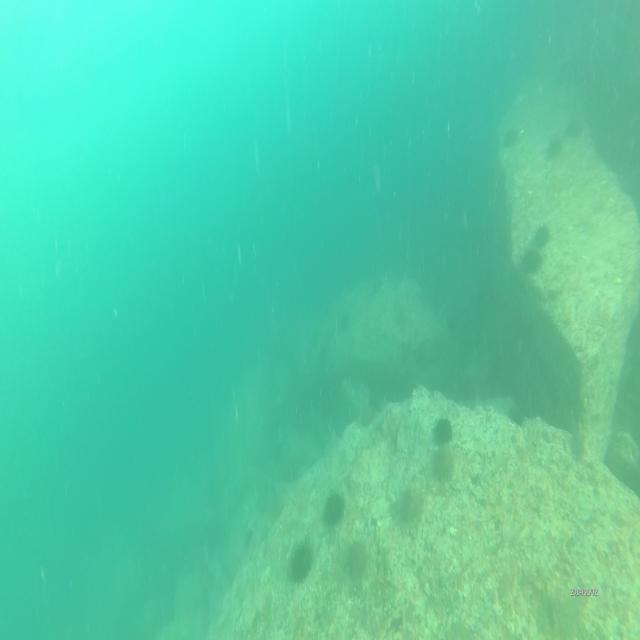echinus: (393, 488, 424, 528), (290, 534, 310, 586), (346, 542, 372, 580), (521, 245, 545, 272), (321, 492, 341, 524), (434, 447, 454, 478), (433, 418, 453, 443), (533, 223, 549, 250), (566, 113, 580, 136), (502, 130, 517, 148), (547, 132, 557, 155)
